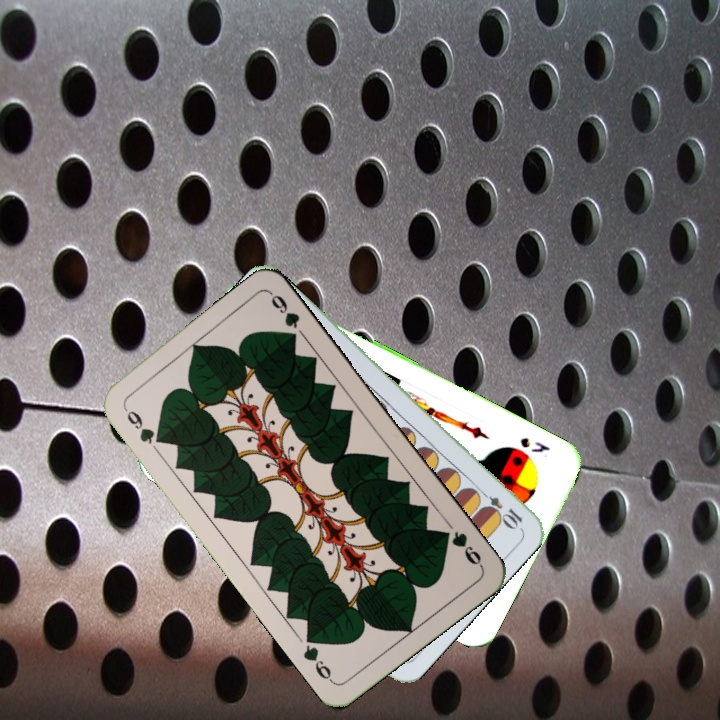E10: (473, 485, 525, 531)
G9: (436, 526, 486, 570), (119, 403, 166, 447)
SK: (515, 433, 554, 456)
